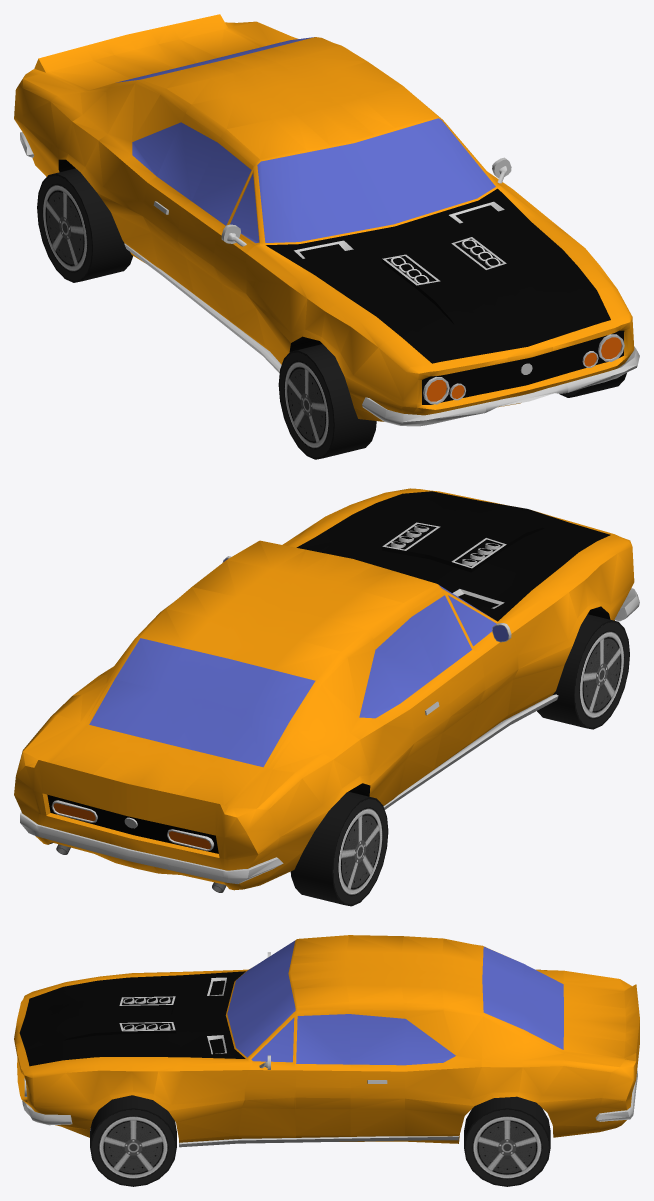
Rendered from cc96-efficient.glb.
The picture shows the model from 3 angles, top to bottom: view 1: azimuth 30°, elevation 25°; view 2: azimuth 150°, elevation 25°; view 3: azimuth 270°, elevation 25°; orthographic projection. The views are drawn at different scales.
Parts seen in each view (by area): view 1: Body, Cylinder.001, Cylinder.002; view 2: Body, Cylinder.002, Cylinder.001; view 3: Body, Cylinder.003, Cylinder.
Boxes of the visible parts, bbox=[...] form: Body: bbox=[14, 14, 639, 426]; Cylinder.001: bbox=[278, 344, 376, 459]; Cylinder.002: bbox=[37, 168, 132, 282]; Body: bbox=[14, 488, 639, 892]; Cylinder.002: bbox=[290, 791, 388, 906]; Cylinder.001: bbox=[537, 614, 629, 729]; Body: bbox=[14, 935, 639, 1147]; Cylinder.003: bbox=[464, 1096, 550, 1186]; Cylinder: bbox=[90, 1095, 176, 1186].
Bounding box in the file's own units: 1.46 × 0.9918 × 3.46.
Materials: 9 (5 with a texture image).
